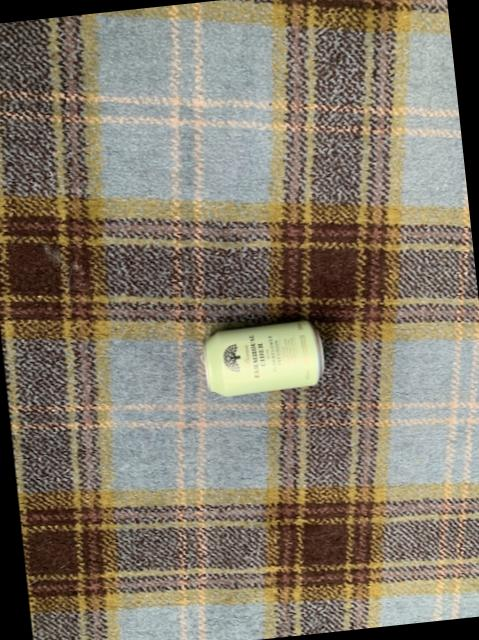metal: (204, 322, 324, 398)
